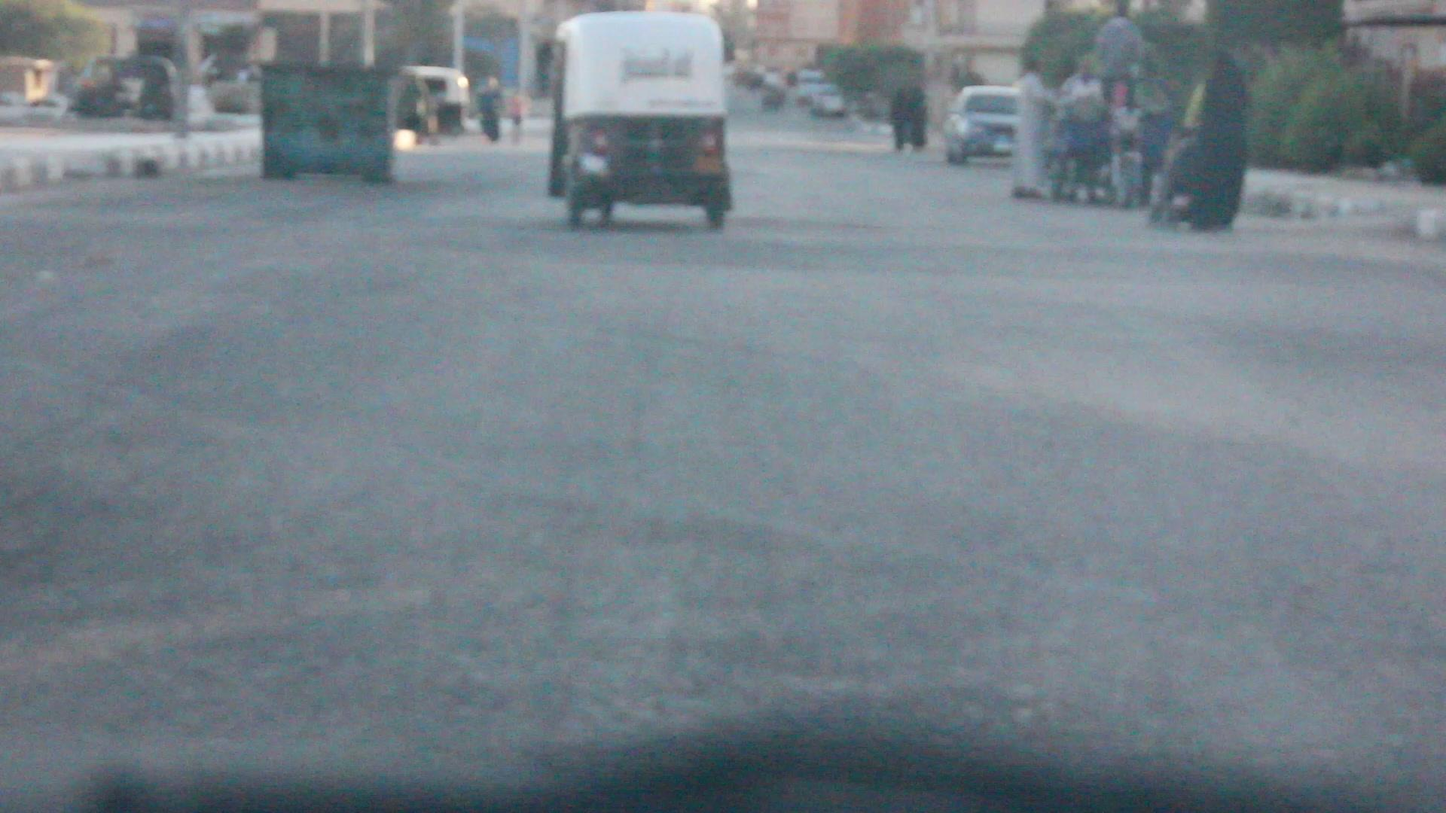Bump: (13, 186, 1445, 269)
